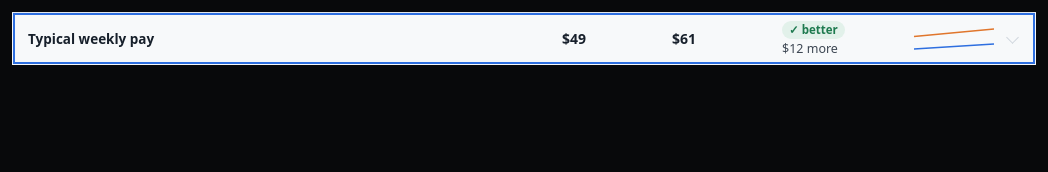
Scenario: NumberRow › Enter, Space and a click toggle once each and preserve keyboard focus
Press Enter in the button "Typical weekly pay", box [12, 12, 1036, 65]
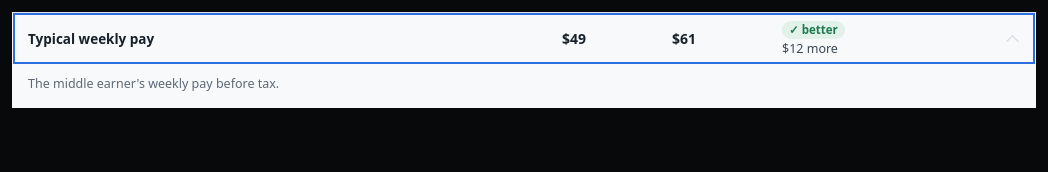
Check: the button "Typical weekly pay" is expanded
Press Space in the button "Typical weekly pay", box [12, 12, 1036, 65]
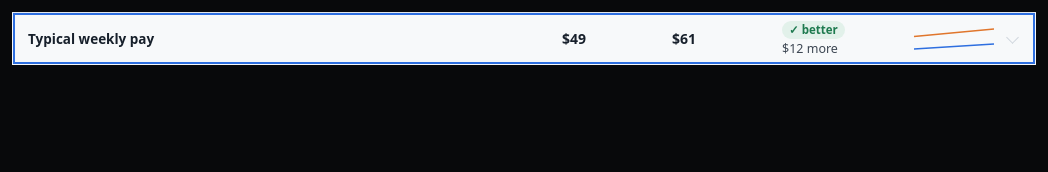
Check: the button "Typical weekly pay" is collapsed
Press a in the button "Typical weekly pay", box [12, 12, 1036, 65]
Check: the button "Typical weekly pay" is collapsed
Click the button "Typical weekly pay" at [91, 39], box [12, 12, 1036, 65]
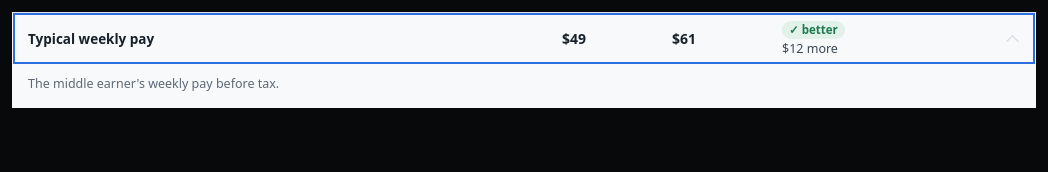
Check: the button "Typical weekly pay" is expanded, box [12, 12, 1036, 65]
